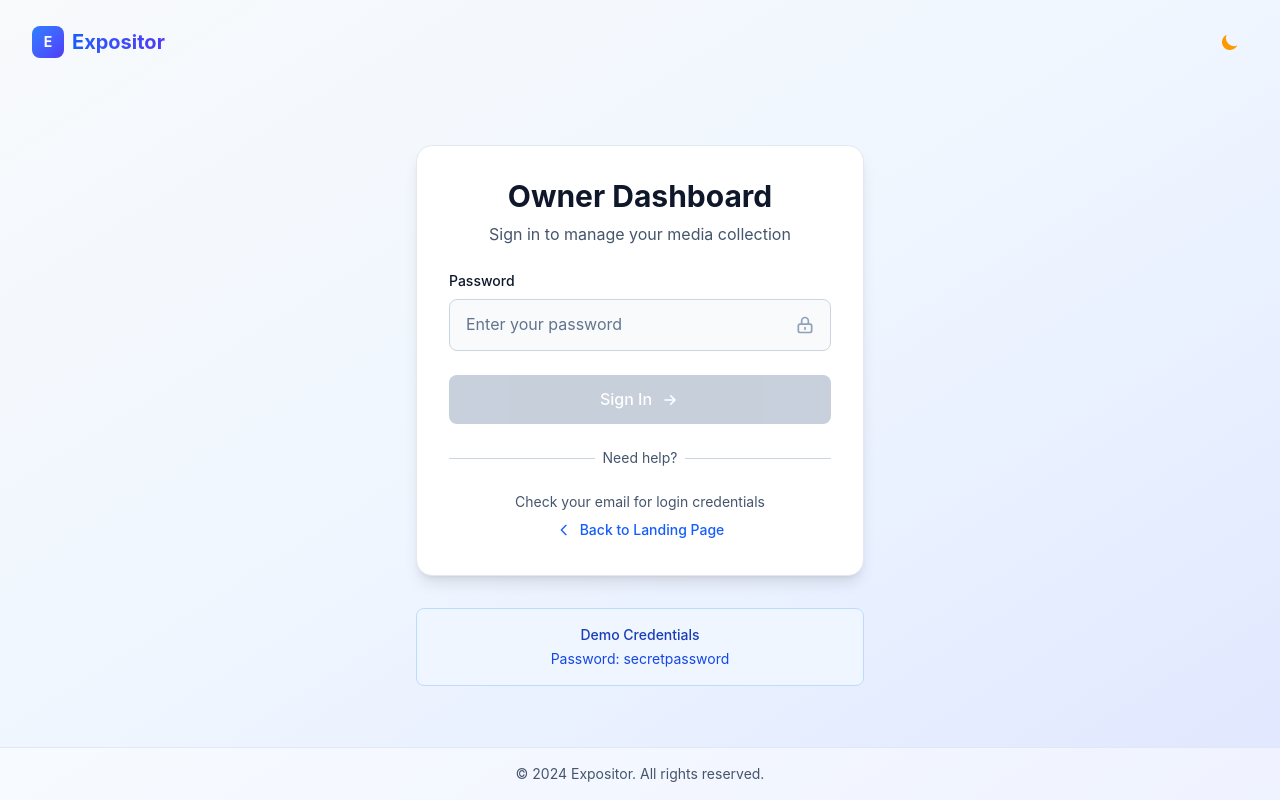
Login › disables form during loading
Type "password" into the password field labelled "Password".
click(640, 325); type("password")  # box [449, 299, 831, 351]
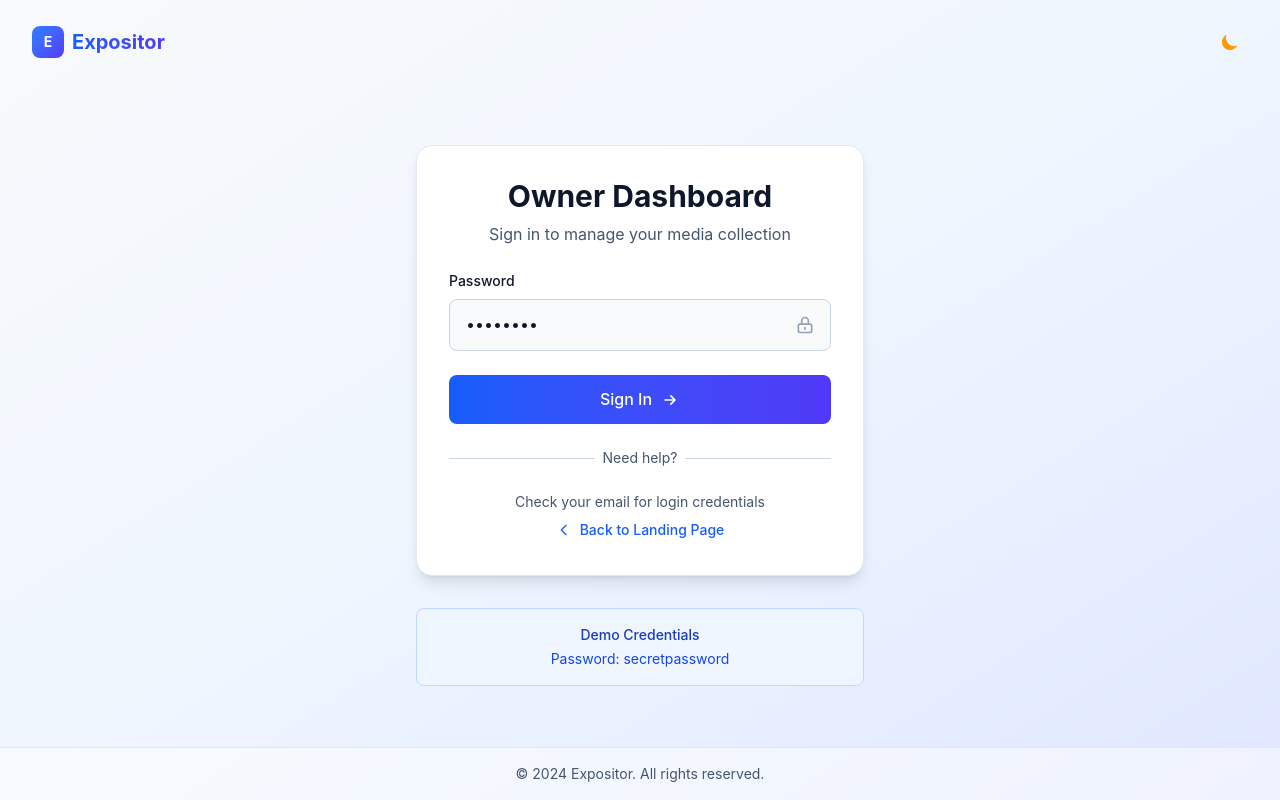
Click the button "Sign In".
click(640, 400)  # box [449, 375, 831, 424]
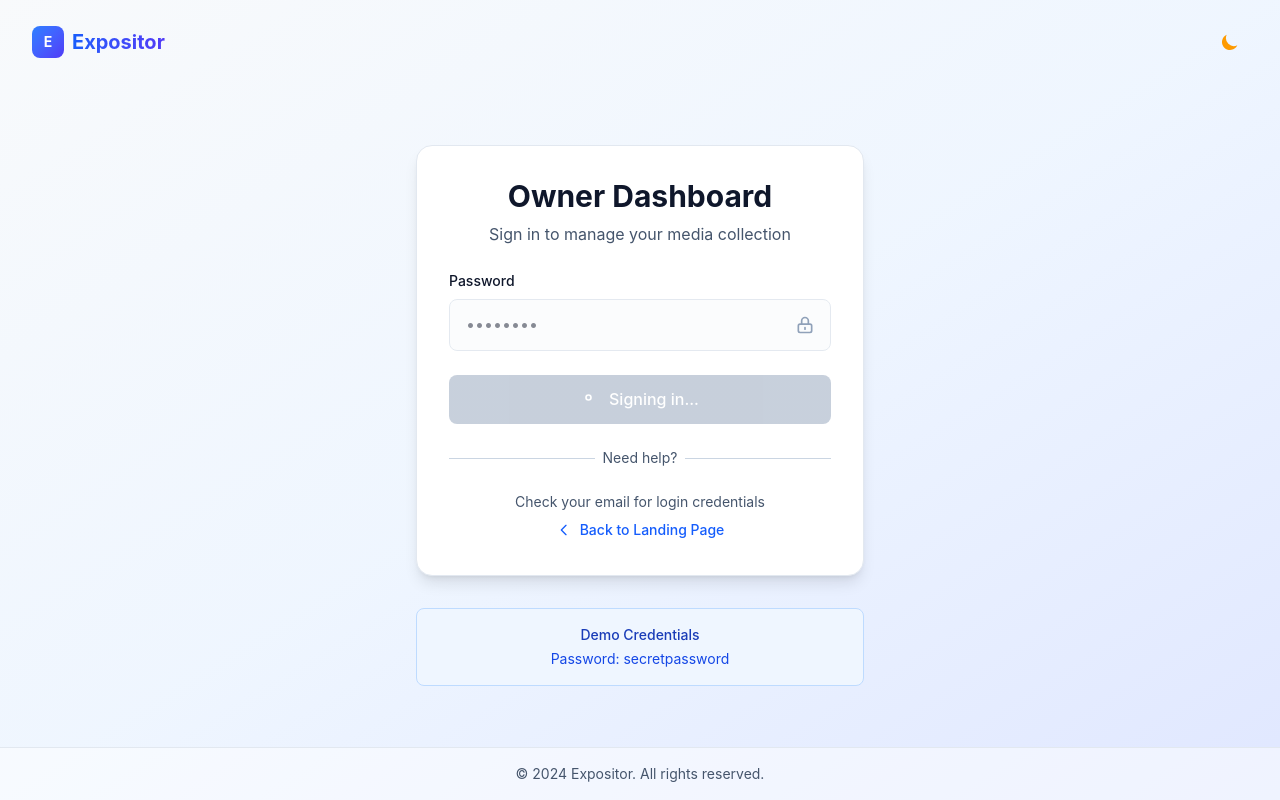
Result: the button named "sign in" is disabled at [449, 375, 831, 424]
Result: the password field labelled "Password" is disabled at [449, 299, 831, 351]
